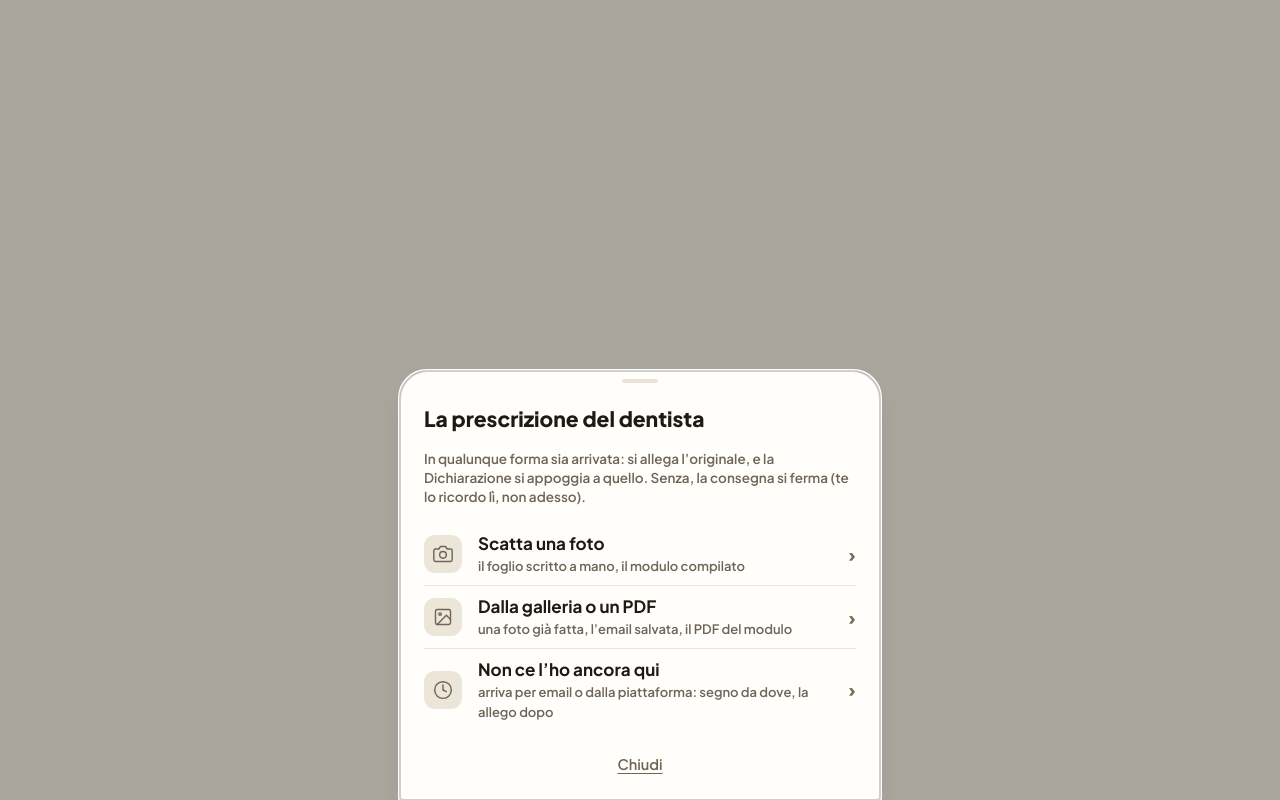
T9 ③ — «Non ce l’ho ancora qui» › apre un passo NELLO STESSO foglio: le tre voci lasciano il posto alle due pastiglie
Click the text "Non ce l’ho ancora qui".
click(569, 669)  # box top-left (478, 658), bottom-right (660, 680)
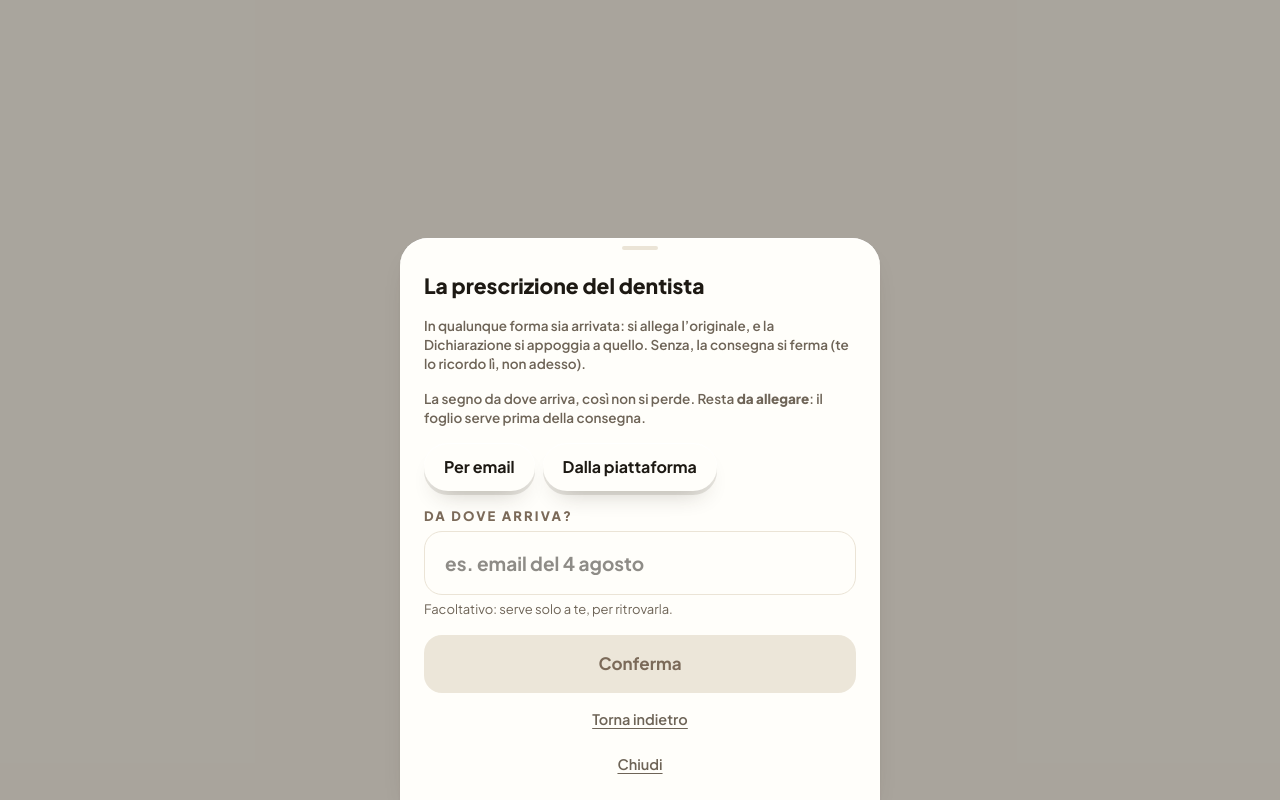
Expected: the button "Per email" is shown, top-left (424, 444), bottom-right (535, 492)
Expected: the button "Scatta una foto" is gone
Expected: the field labelled "Da dove arriva?" is shown, top-left (424, 531), bottom-right (856, 595)
